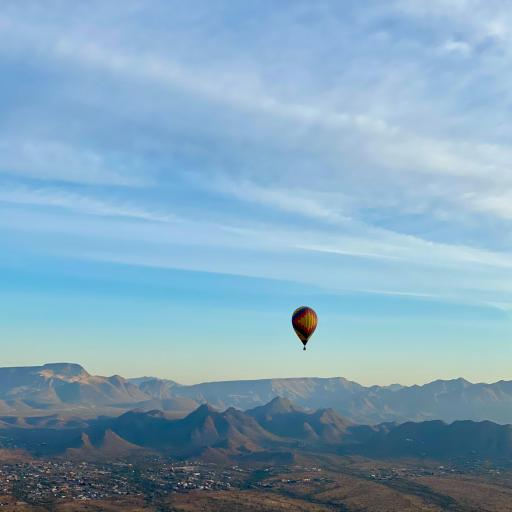hot air ballon: (290, 303, 318, 353)
